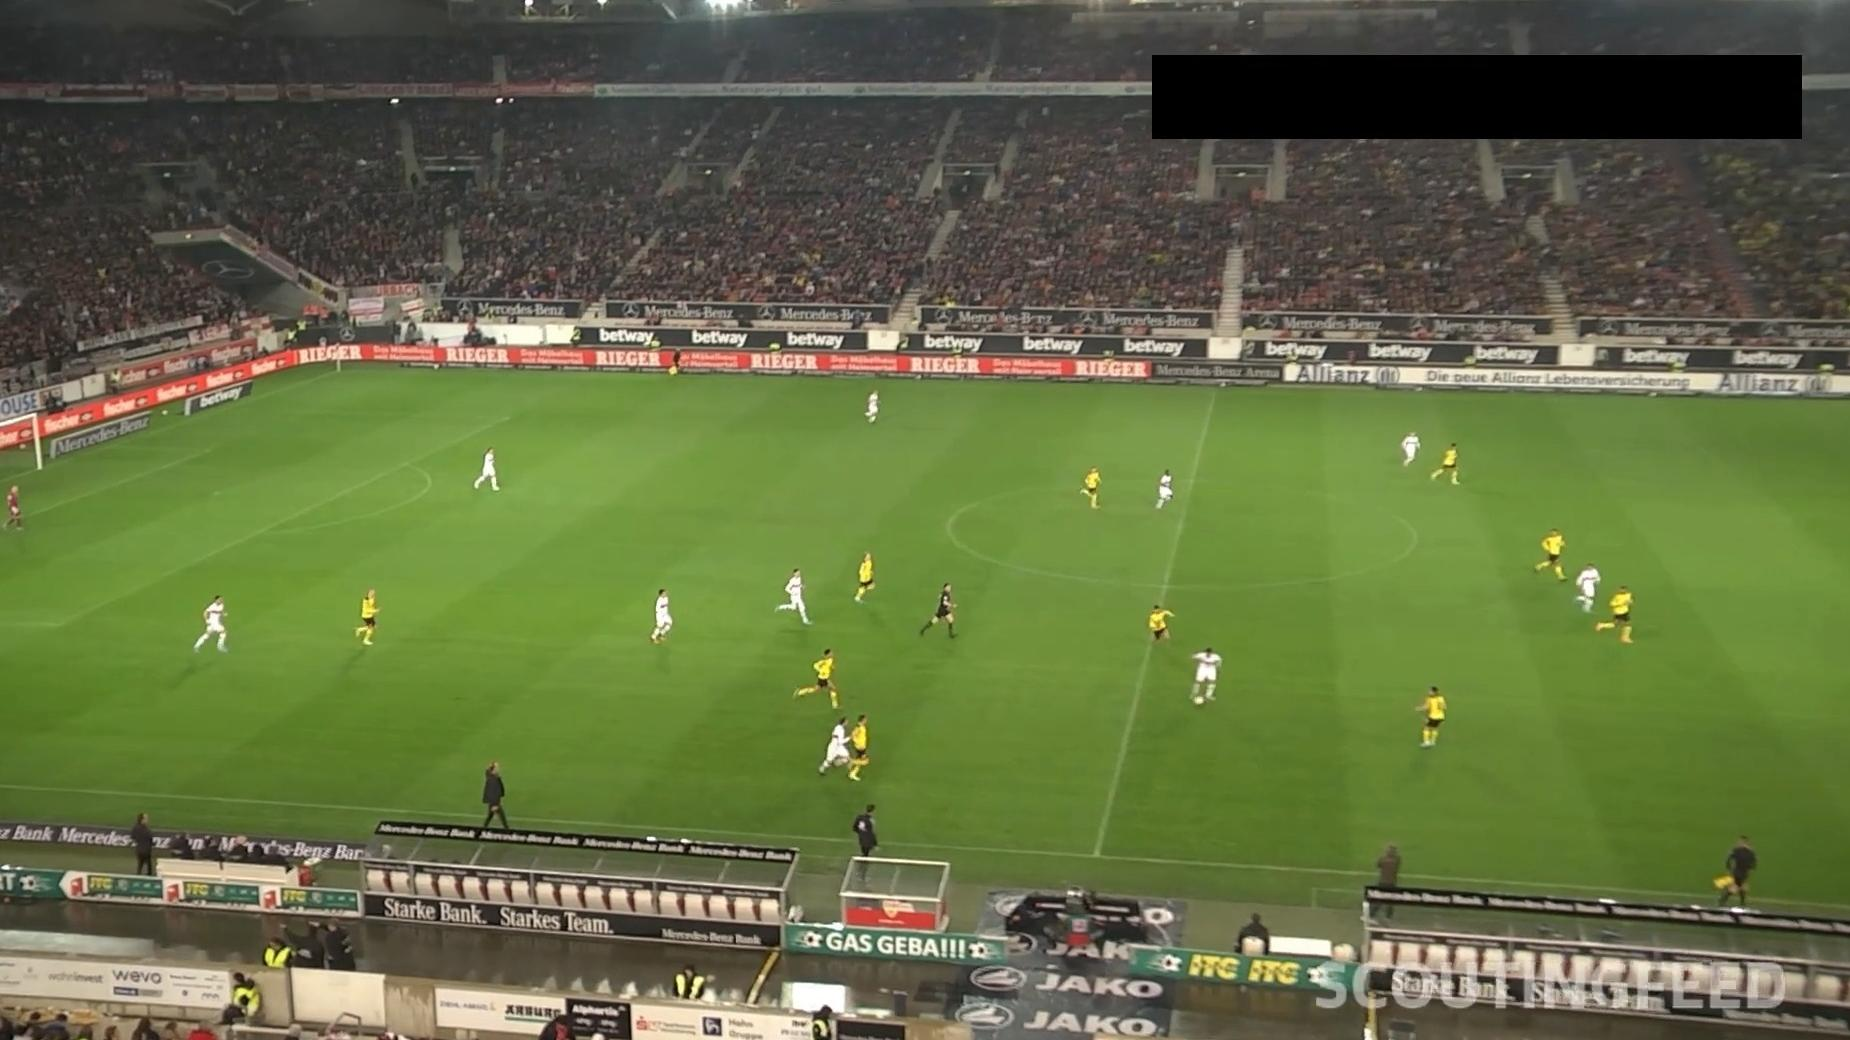ball: (1193, 693, 1206, 706)
